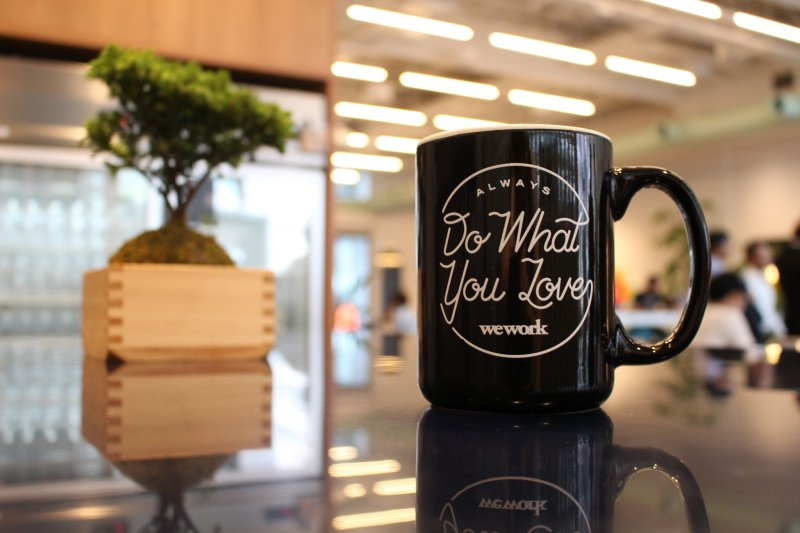wework: (475, 315, 551, 337)
